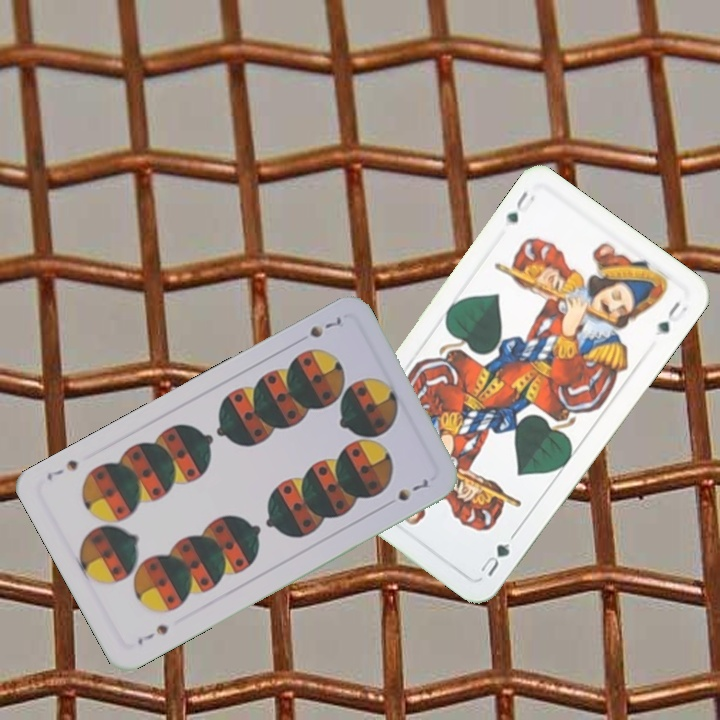GU: (476, 539, 513, 580), (501, 186, 538, 226)
S7: (305, 312, 345, 341), (133, 620, 171, 647)
